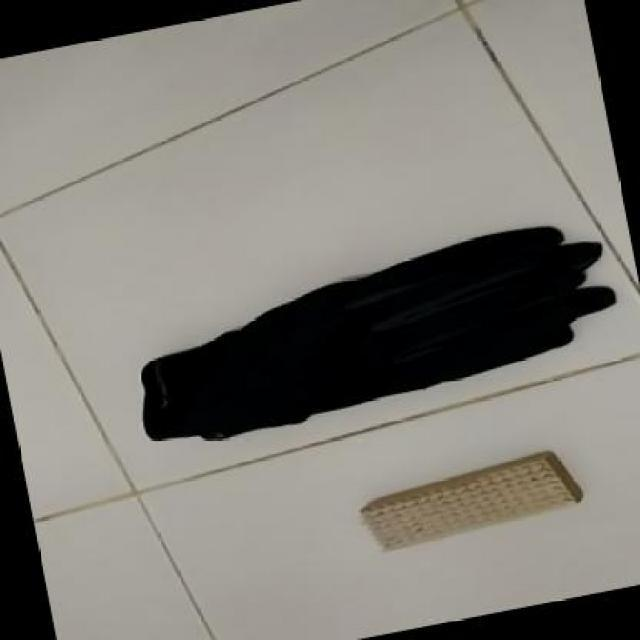glove: (140, 224, 616, 442)
